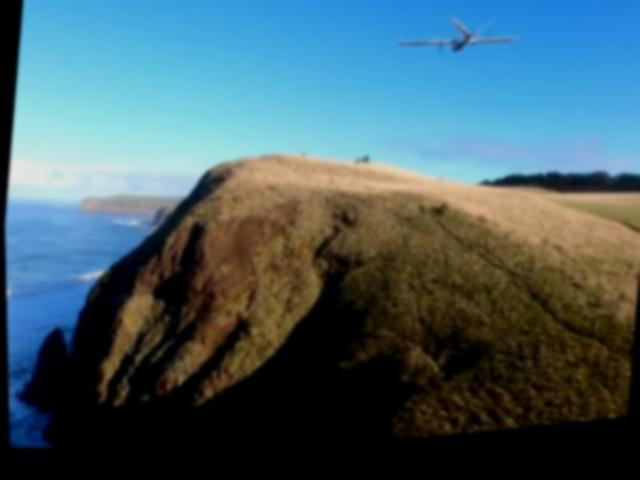uav: (397, 14, 521, 70)
